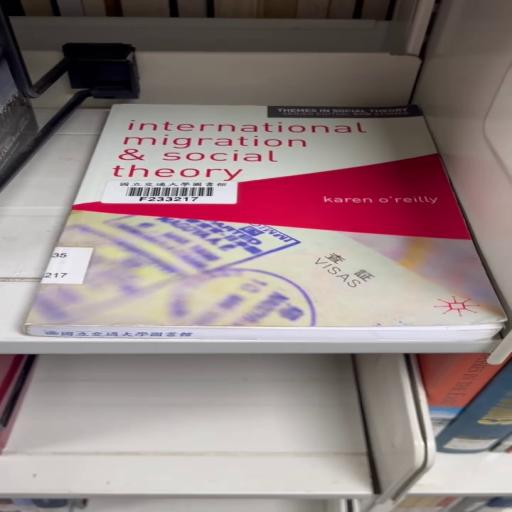flat: (25, 105, 507, 341)
